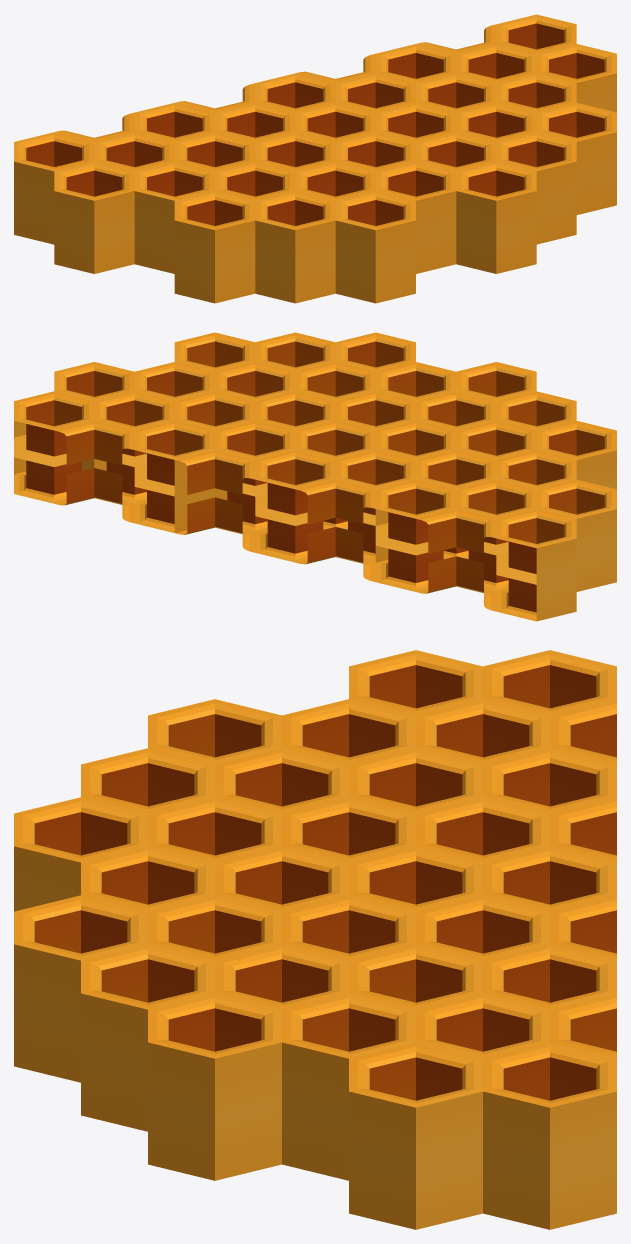
File: CellBigHalf.fbx
3 renders of one model, top to bottom at view 1: azimuth 30°, elevation 25°; view 2: azimuth 150°, elevation 25°; view 3: azimuth 270°, elevation 25°, orthographic. The views are drawn at different scales.
Visible parts, largest first — view 1: CellHalf_LOD0; view 2: CellHalf_LOD0; view 3: CellHalf_LOD0.
Part boxes in pixels (x1=…): CellHalf_LOD0: x1=14, y1=14, x2=616, y2=303; CellHalf_LOD0: x1=14, y1=332, x2=616, y2=621; CellHalf_LOD0: x1=14, y1=650, x2=616, y2=1229.
Size of what is drawn, in the model's own units: 278 by 34.54 by 155.
